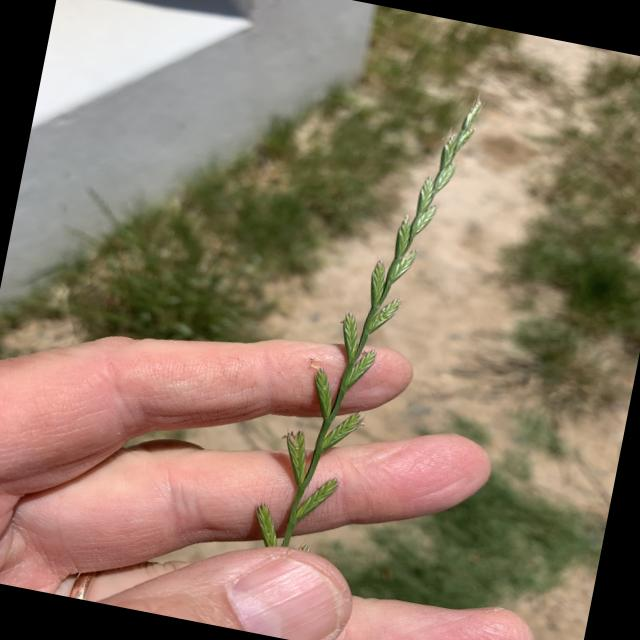Lolium: (246, 67, 490, 573), (244, 498, 288, 552)
